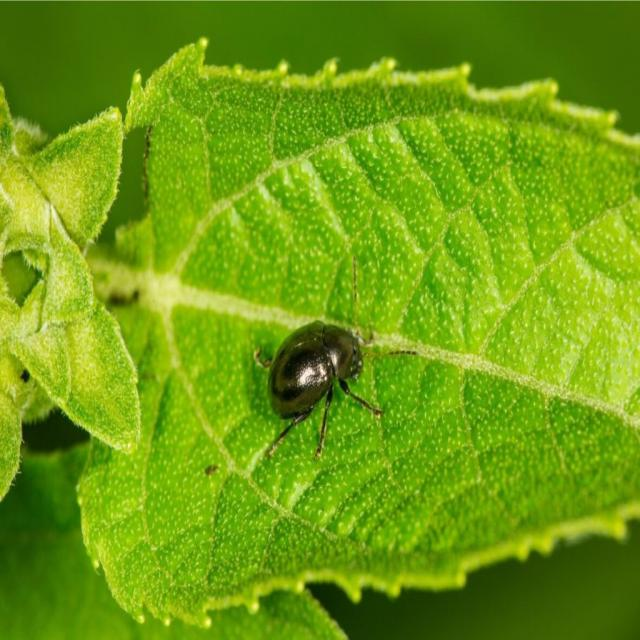flea_beetle: (250, 258, 414, 468)
